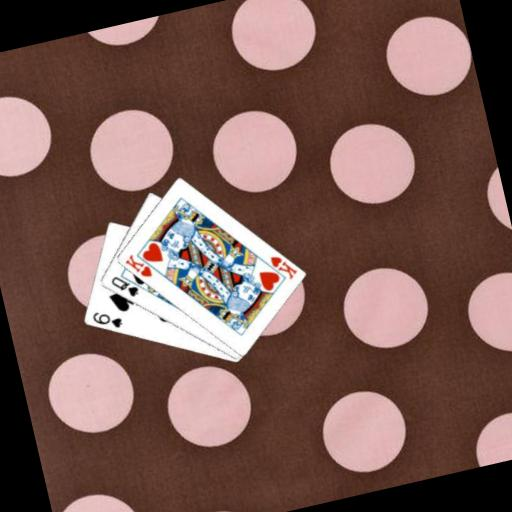6S: (88, 304, 125, 336)
KH: (120, 248, 155, 284), (266, 248, 300, 285)
QS: (107, 269, 142, 303)
